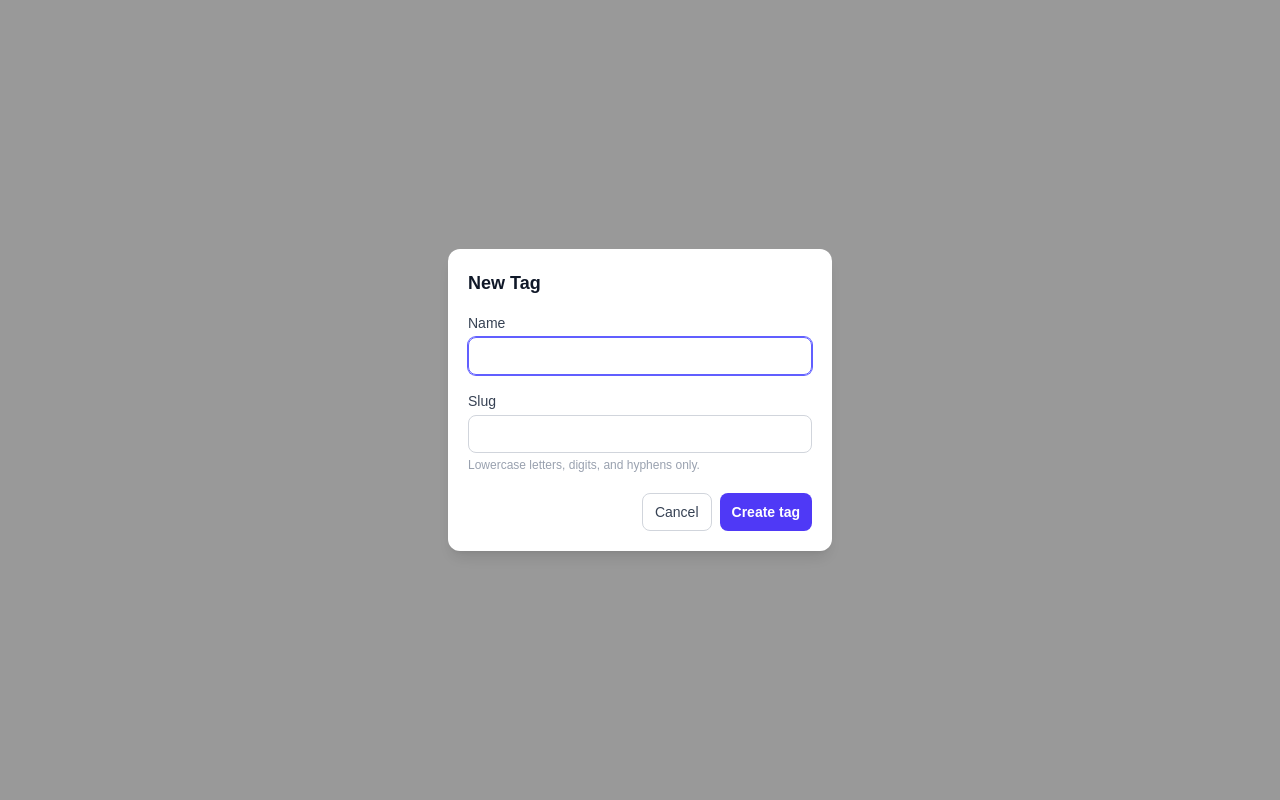
Test case: TaxonomyFormModal › blocks submission and shows a validation message when name or slug is empty
Click the button "Create tag": (766, 512) [720,493,812,531]
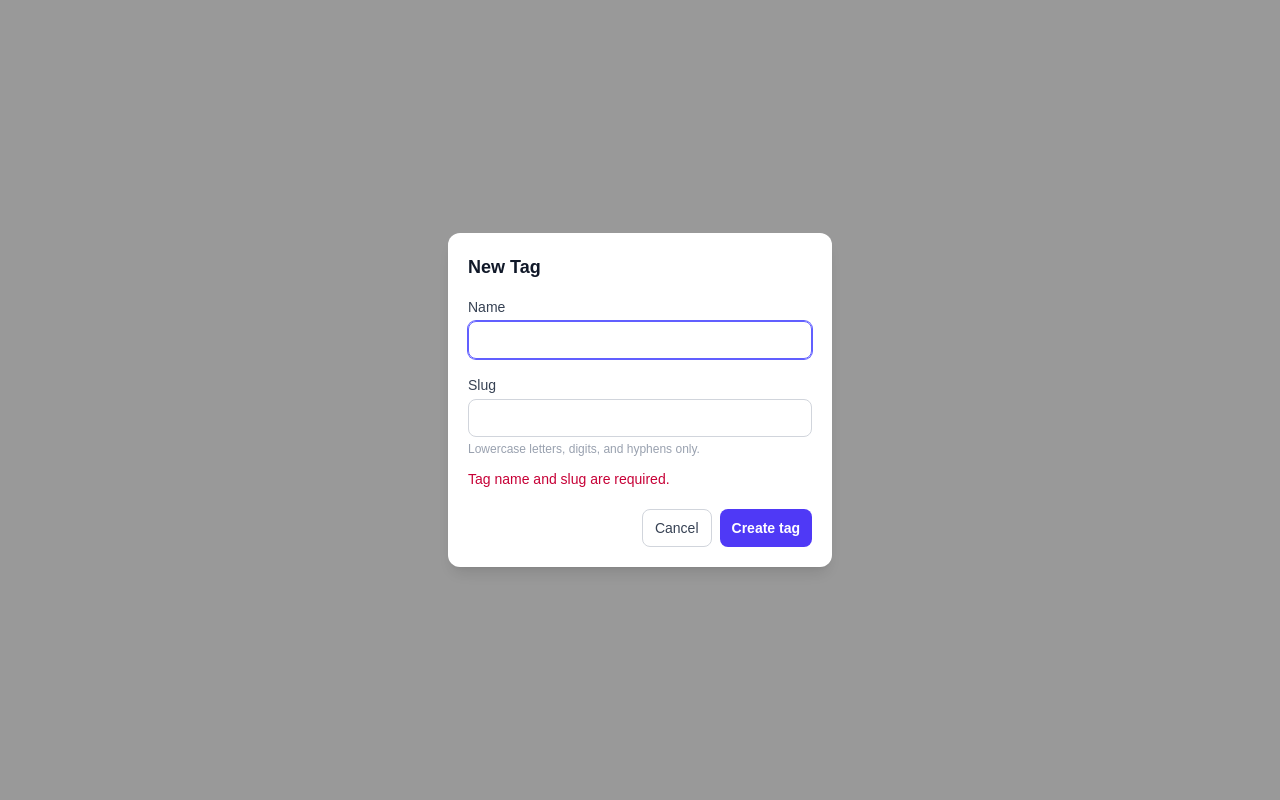
Result: the message shows "name and slug are required" at [468,471,670,487]
